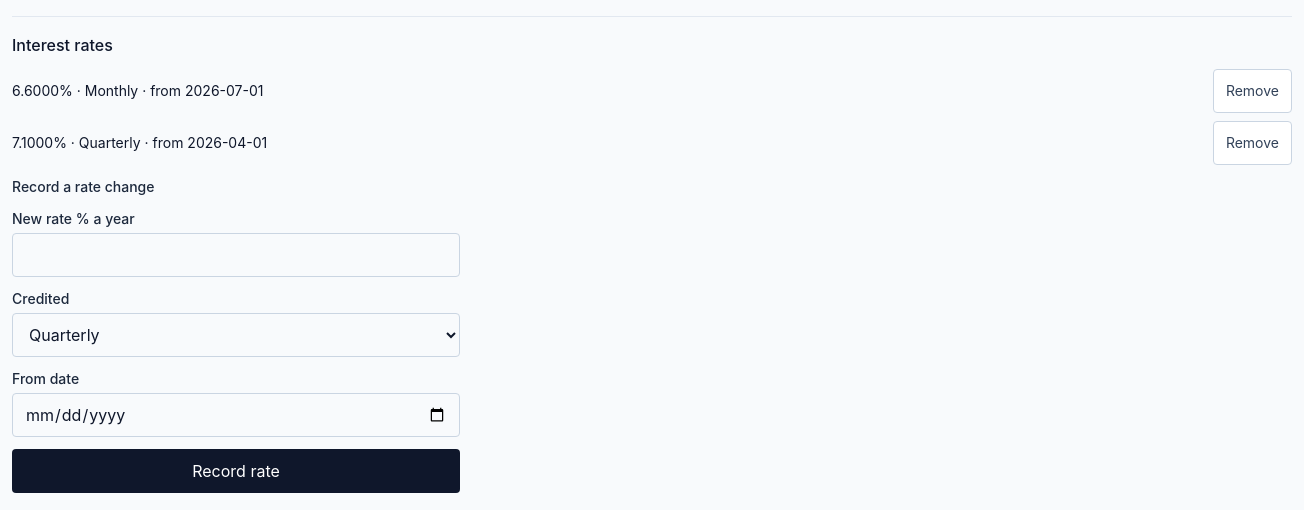
Scenario: RateHistory › leaves the rate alone when the question is dismissed
Expected: the text "6.6000% · Monthly · from 2026-07-01" is shown, [12,81,264,101]
Step 1. Click the button "Remove" in the row of "7.1000" → coordinates (1252, 143), box [1213,121,1292,165]
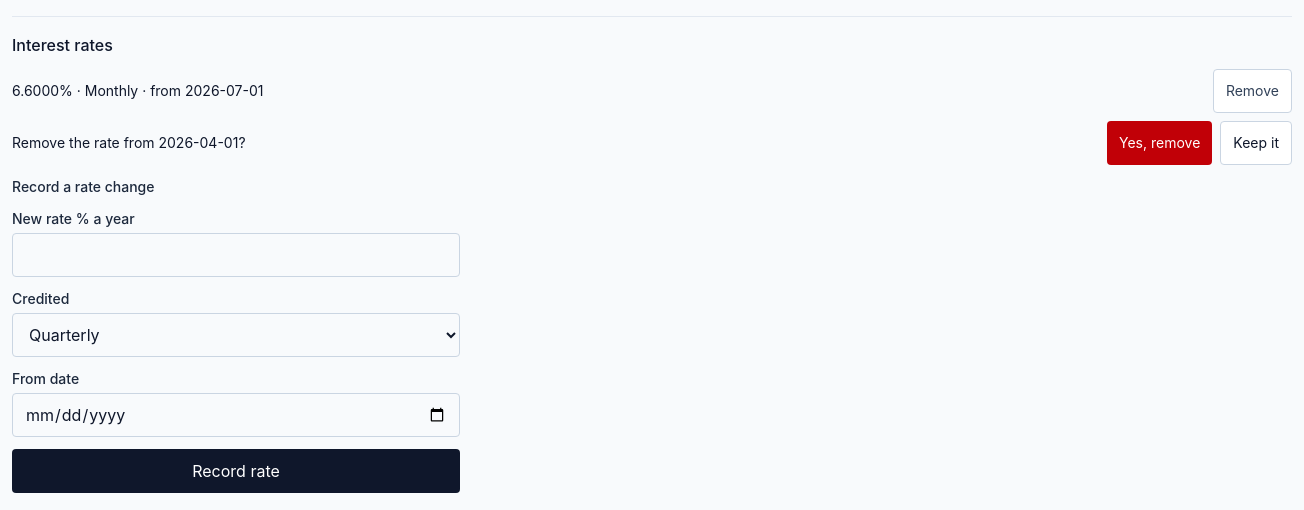
Step 2. Click the button "Keep it" → coordinates (1256, 143), box [1220,121,1292,165]
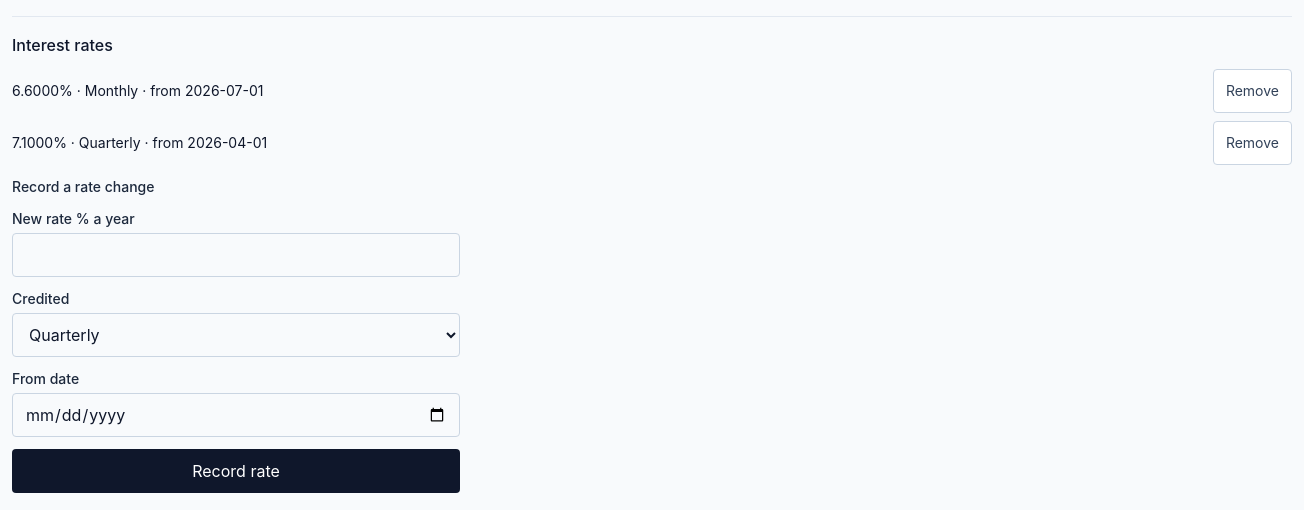
Result: the text "Remove the rate from 2026-04-01?" is gone
Result: the text "7.1000% · Quarterly · from 2026-04-01" is shown at [12,133,267,153]
